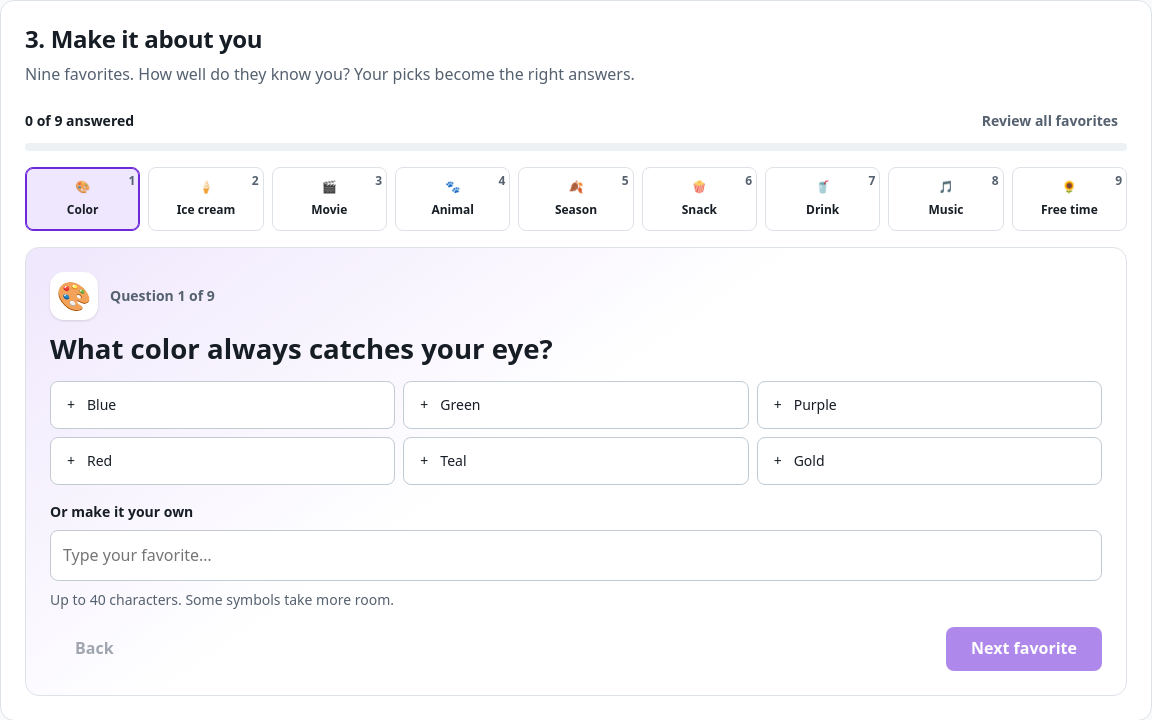
offers tappable ideas without advancing or opening the typing field
Step 1. Click the button "+ Teal" → (424, 460), box top-left (403, 437), bottom-right (749, 485)
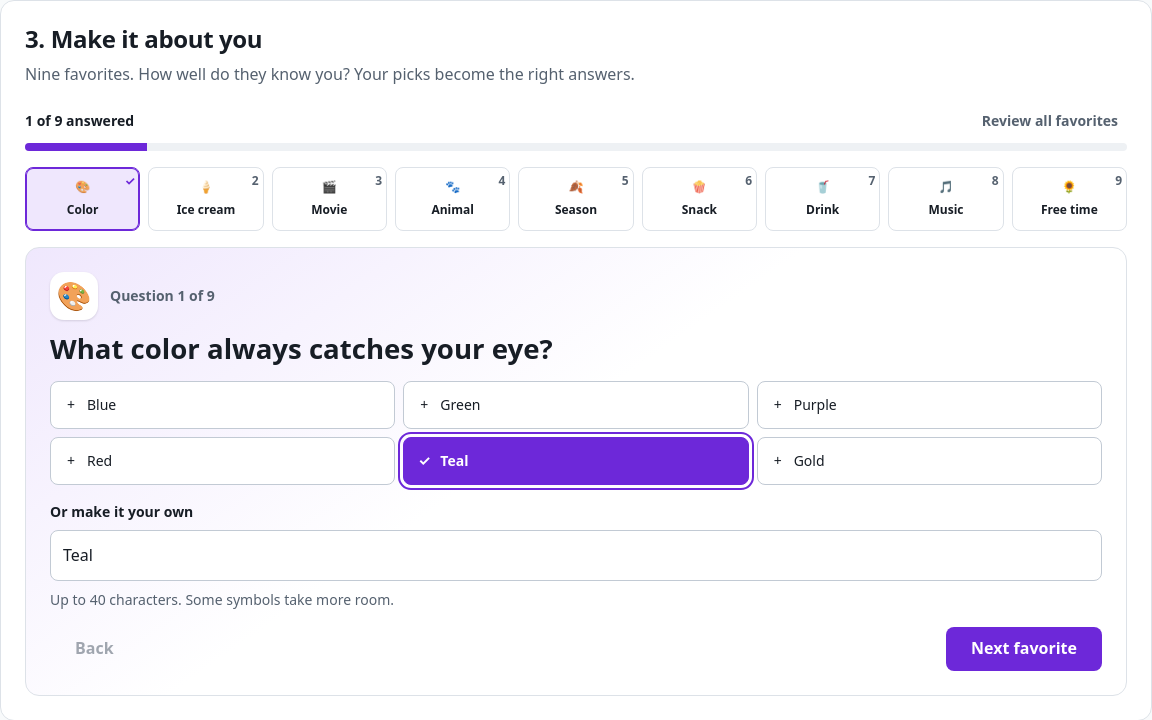
Check: the text "Question 1 of 9" is shown, box top-left (110, 285), bottom-right (215, 306)
Check: the field labelled "What color always catches your eye?" holds "Teal", box top-left (50, 530), bottom-right (1102, 581)
Check: the message reads "1 of 9 answered", box top-left (25, 110), bottom-right (134, 132)
Step 2. Click the button "+ Gold" → (809, 460), box top-left (757, 437), bottom-right (1102, 485)
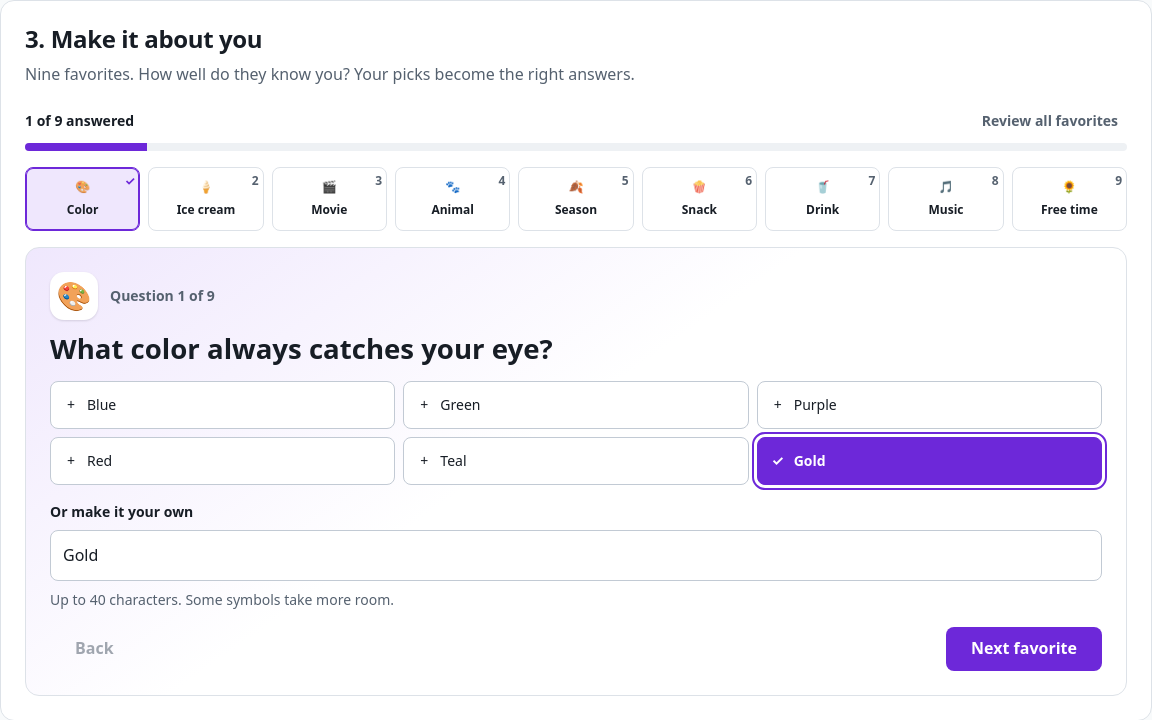
Check: the message reads "1 of 9 answered", box top-left (25, 110), bottom-right (134, 132)
Check: the field labelled "What color always catches your eye?" holds "Gold", box top-left (50, 530), bottom-right (1102, 581)
